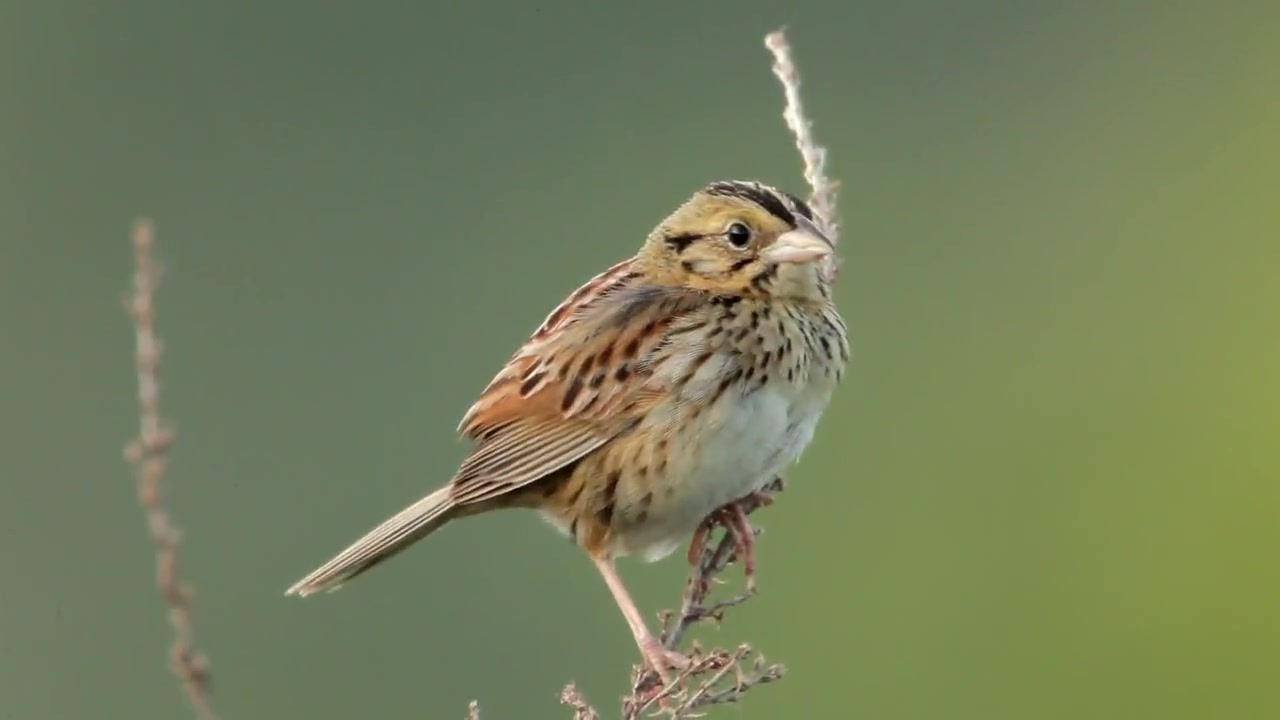bird: (286, 180, 852, 692)
